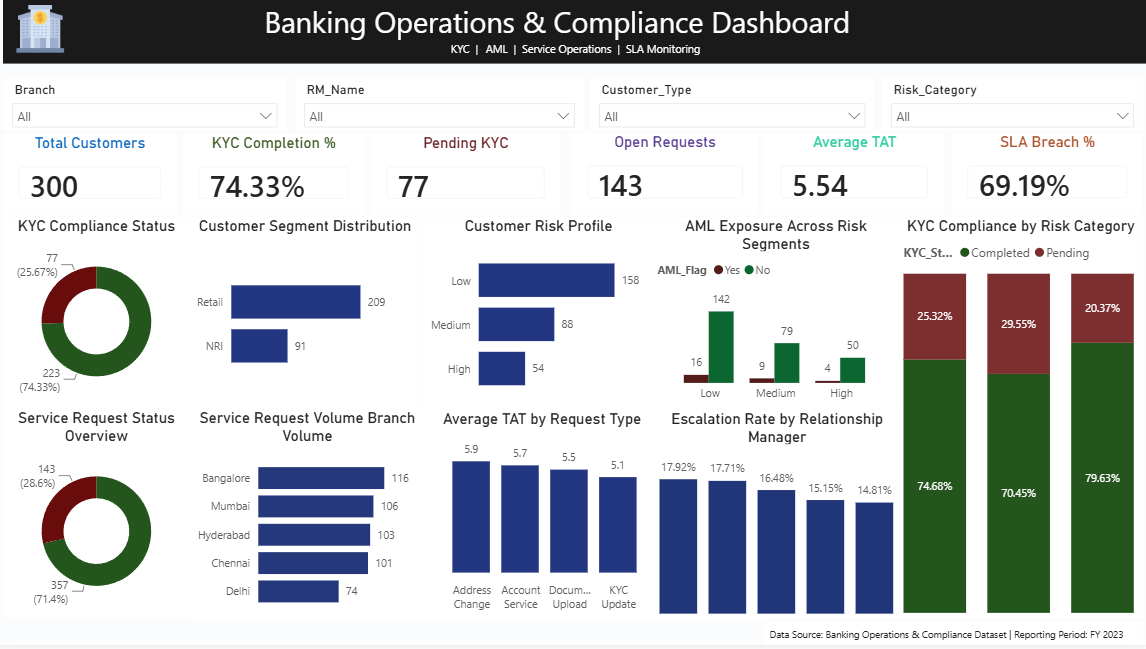

The dashboard page shown, as its layout file describes it:
{"tool":"powerbi","page":{"name":"Page 1","canvas":[1280,720],"ordinal":0},"visuals":[{"type":"cardVisual","title":"Total Customers","fields":{"Data":["Customer_Master.Total Customer"]},"box":[7.7,152,193.2,90.3],"z":0},{"type":"cardVisual","title":" KYC Completion %","fields":{"Data":["Customer_Master.%KYC Completed"]},"box":[207.7,152,201.7,90.3],"z":1000},{"type":"cardVisual","title":"Open Requests","fields":{"Data":["Customer_Master.Open Service Request"]},"box":[640.2,151.5,207.2,90.7],"z":2000},{"type":"cardVisual","title":"Pending KYC","fields":{"Data":["Customer_Master.Pending KYC Customer"]},"box":[416.9,152,210.9,90.3],"z":3000},{"type":"cardVisual","title":"Average TAT","fields":{"Data":["Customer_Master.Average TAT Days"]},"box":[854.6,151.5,199,90.7],"z":4000},{"type":"cardVisual","title":"SLA Breach %","fields":{"Data":["Customer_Master.SLA Breach %"]},"box":[1061.9,151.5,212.4,90.7],"z":5000},{"type":"donutChart","title":"KYC Compliance Status","fields":{"Y":["Customer_Master.Completed KYC Customers","Customer_Master.Pending KYC Customer"]},"box":[7.7,244.7,207.6,213.5],"z":6000},{"type":"donutChart","title":"Service Request Status Overview","fields":{"Y":["Customer_Master.Closed Service Request","Customer_Master.Open Service Request"]},"box":[7.7,458.2,207.6,232],"z":7000},{"type":"clusteredBarChart","title":"Customer Segment Distribution","fields":{"Y":["CountNonNull(KYC_Compliance.KYC_ID)"],"Category":["Customer_Master.Customer_Type"]},"box":[215,244.6,258,213],"z":8000},{"type":"clusteredBarChart","title":"Customer Risk Profile","fields":{"Category":["Customer_Master.Risk_Category"],"Y":["CountNonNull(Customer_Master.Customer_ID)"]},"box":[473,244.6,259,214],"z":9000},{"type":"clusteredColumnChart","title":"Average TAT by Request Type","fields":{"Y":["Service_Requests.Average TAT Days"],"Category":["Service_Requests.Request_Type"]},"box":[473,458.6,267,232],"z":10000},{"type":"clusteredColumnChart","title":"AML Exposure Across Risk Segments","fields":{"Category":["Customer_Master.Risk_Category"],"Y":["Count(KYC_Compliance.Customer_ID)"],"Series":["KYC_Compliance.AML_Flag"]},"box":[730,244.6,273,214],"z":11000},{"type":"hundredPercentStackedColumnChart","title":"KYC Compliance by Risk Category","fields":{"Category":["Customer_Master.Risk_Category"],"Y":["Count(KYC_Compliance.Customer_ID)"],"Series":["KYC_Compliance.KYC_Status"]},"box":[1003.4,244.7,270.9,445.5],"z":12000},{"type":"clusteredBarChart","title":"Service Request Volume Branch Volume","fields":{"Category":["Service_Requests.Branch"],"Y":["CountNonNull(Service_Requests.Request_ID)"]},"box":[215,457.6,263,233],"z":13000},{"type":"clusteredColumnChart","title":"Escalation Rate by Relationship Manager","fields":{"Category":["Service_Requests.RM_Name"],"Y":["Service_Requests.Escalation%"]},"box":[731.9,458.8,271.4,231.9],"z":14000},{"type":"slicer","fields":{"Values":["Customer_Master.Risk_Category"]},"box":[984,90.3,290.3,58.2],"z":15000},{"type":"textbox","box":[7.6,0,1272.4,74.3],"z":15500},{"type":"slicer","fields":{"Values":["Customer_Master.Customer_Type"]},"box":[659.9,90.3,316.4,58.2],"z":16000},{"type":"slicer","fields":{"Values":["Service_Requests.Branch"]},"box":[7.7,90.3,314.7,58.2],"z":18000},{"type":"slicer","fields":{"Values":["Service_Requests.RM_Name"]},"box":[331.7,90.3,320.6,58.2],"z":19000},{"type":"textbox","box":[866.4,693.3,407.6,26.9],"z":20000},{"type":"image","box":[6.8,8.4,84.4,53.2],"z":24000}]}

Visuals, with their boxes in screenshot pixels (x1, y1, x2, y2), scaled from the page's 1280x720 canvas onto the 1146x649 screenshot:
"Total Customers" cardVisual: [7, 137, 180, 218]
" KYC Completion %" cardVisual: [186, 137, 367, 218]
"Open Requests" cardVisual: [573, 137, 759, 218]
"Pending KYC" cardVisual: [373, 137, 562, 218]
"Average TAT" cardVisual: [765, 137, 943, 218]
"SLA Breach %" cardVisual: [951, 137, 1141, 218]
"KYC Compliance Status" donutChart: [7, 221, 193, 413]
"Service Request Status Overview" donutChart: [7, 413, 193, 622]
"Customer Segment Distribution" clusteredBarChart: [192, 220, 423, 412]
"Customer Risk Profile" clusteredBarChart: [423, 220, 655, 413]
"Average TAT by Request Type" clusteredColumnChart: [423, 413, 663, 622]
"AML Exposure Across Risk Segments" clusteredColumnChart: [654, 220, 898, 413]
"KYC Compliance by Risk Category" hundredPercentStackedColumnChart: [898, 221, 1141, 622]
"Service Request Volume Branch Volume" clusteredBarChart: [192, 412, 428, 622]
"Escalation Rate by Relationship Manager" clusteredColumnChart: [655, 414, 898, 623]
slicer - Customer_Master.Risk_Category: [881, 81, 1141, 134]
textbox: [7, 0, 1145, 67]
slicer - Customer_Master.Customer_Type: [591, 81, 874, 134]
slicer - Service_Requests.Branch: [7, 81, 289, 134]
slicer - Service_Requests.RM_Name: [297, 81, 584, 134]
textbox: [776, 625, 1141, 648]
image: [6, 8, 82, 56]
